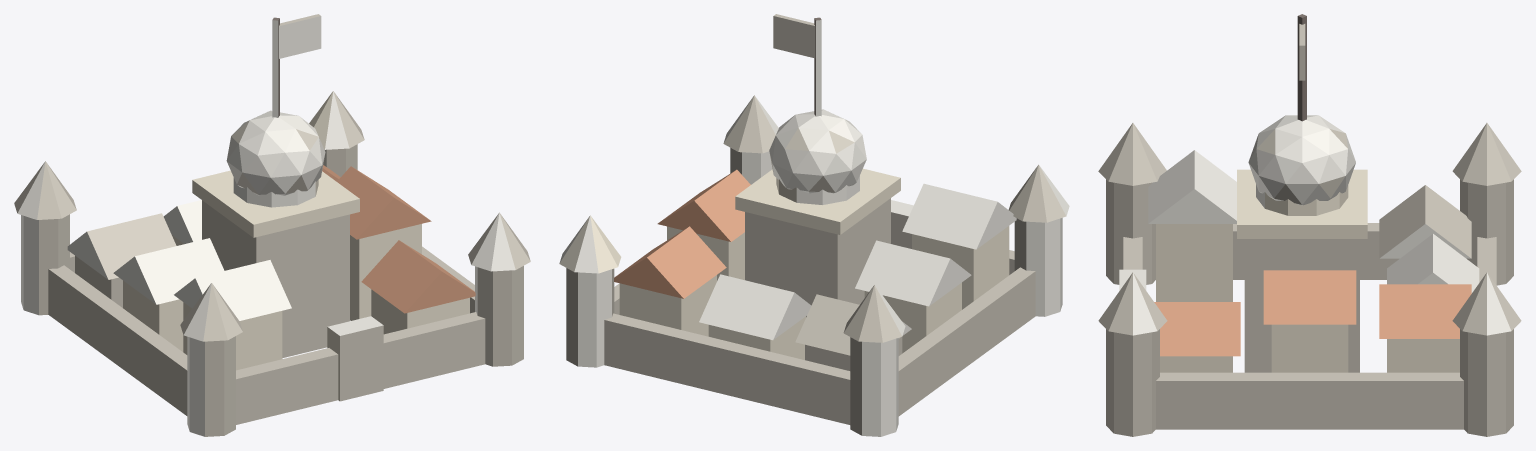
The model's file is capital.glb.
3 views of the same model, side by side, from view 1: azimuth 30°, elevation 25°; view 2: azimuth 150°, elevation 25°; view 3: azimuth 270°, elevation 25° (orthographic). The views are drawn at different scales.
Visible parts, largest first — view 1: capital; view 2: capital; view 3: capital.
Part boxes in pixels (x1,y1,x2,y2): capital: (14,14,530,436); capital: (559,14,1069,436); capital: (1098,14,1521,436).
Size of the model in its own units: 1 by 0.8727 by 1.
